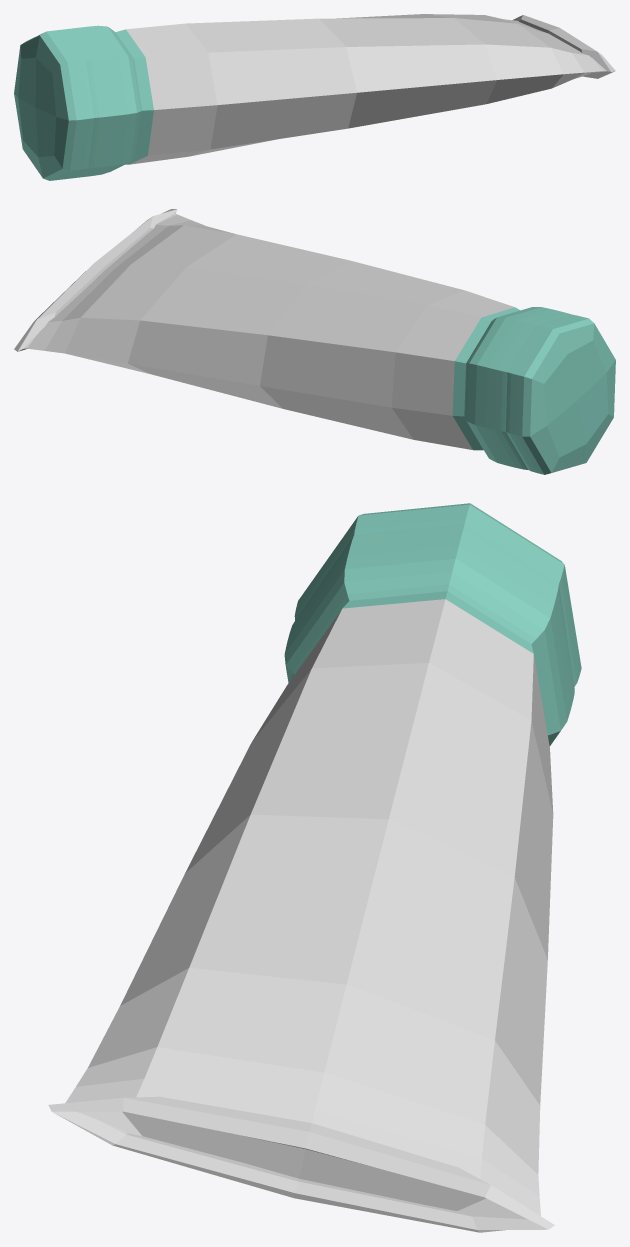
3 views of the same model, one above another, from view 1: azimuth 30°, elevation 25°; view 2: azimuth 150°, elevation 25°; view 3: azimuth 270°, elevation 25° (orthographic). The views are drawn at different scales.
Visible parts, largest first — view 1: Cube.001; view 2: Cube.001; view 3: Cube.001.
Part boxes in pixels (bbox=[...]): Cube.001: bbox=[14, 14, 615, 180]; Cube.001: bbox=[14, 209, 615, 474]; Cube.001: bbox=[48, 503, 581, 1232].
Bounding box in the file's own units: 17.56 × 4.55 × 7.93.
